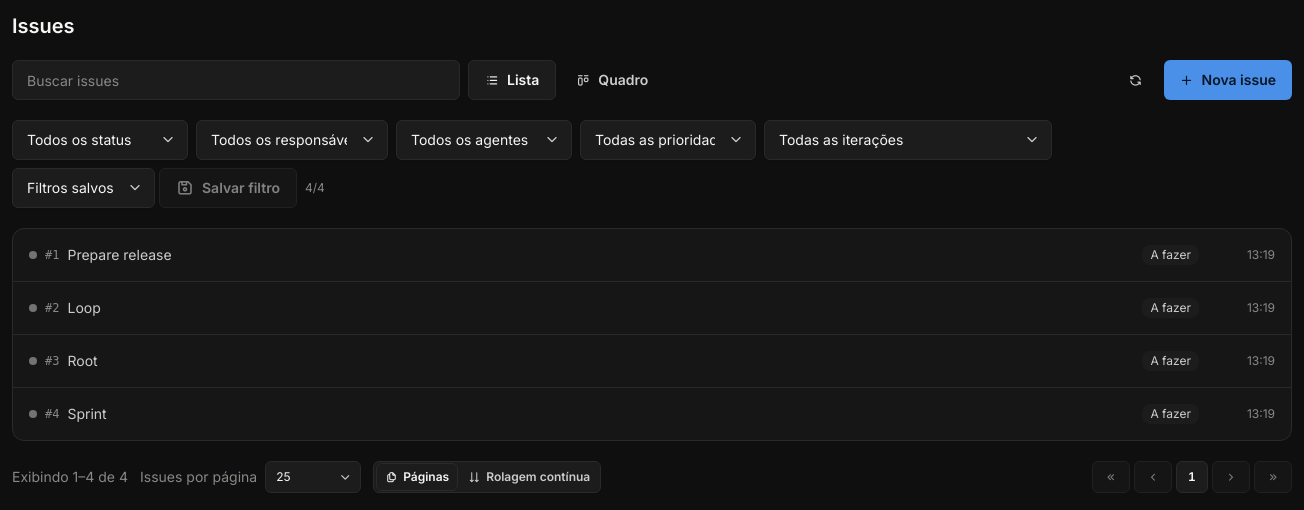
Test: WorkView saved filters › resolves iterations through missing and circular PBI parents
Select "Proj\\Sprint 1" in the dropdown named "Iteração" at {"x": 908, "y": 140}, box [764,120,1052,160]
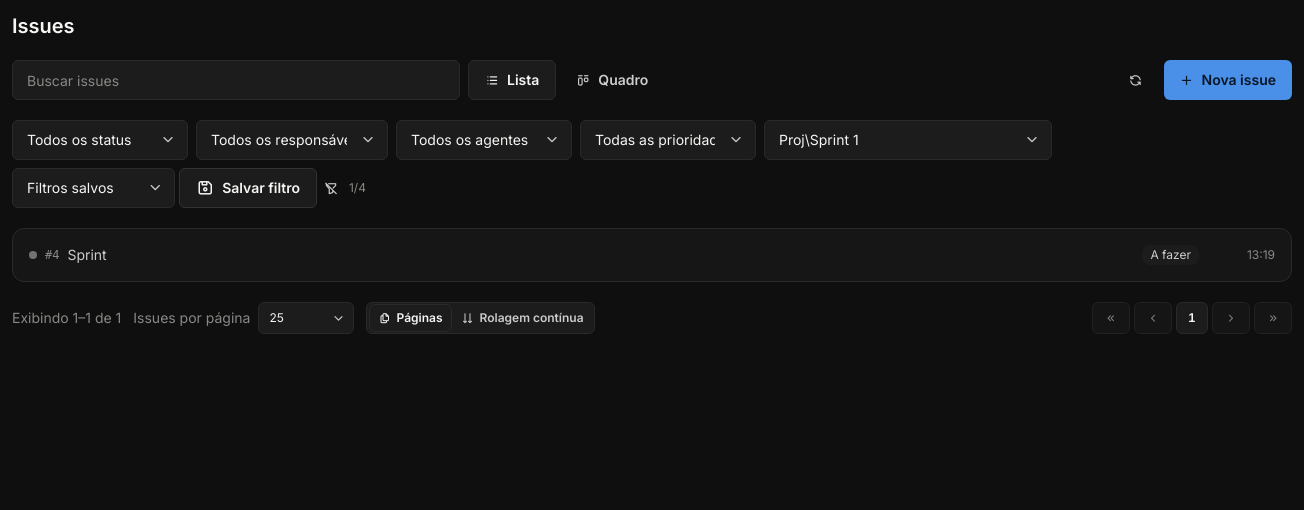
Expected: the button "#4 Sprint" is shown, [29,241,1130,269]
Expected: the button "2 Loop" is gone
